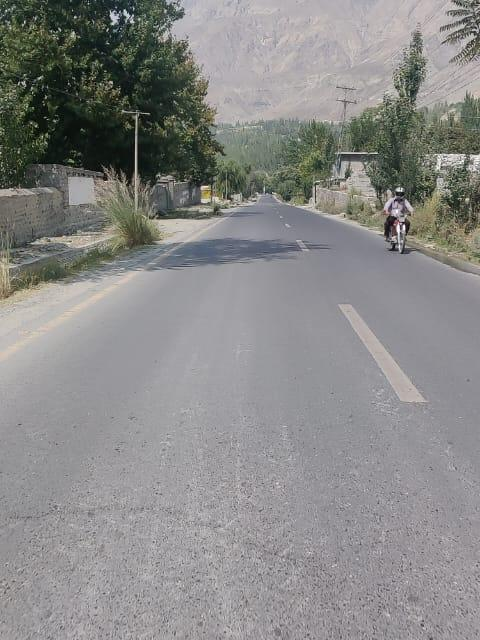sharp_turn: (219, 156, 476, 640)
